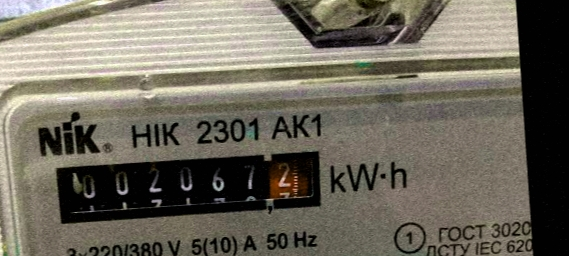0: (77, 170, 97, 200), (174, 161, 194, 190), (111, 165, 130, 195)
2: (273, 157, 293, 187), (144, 163, 163, 193)
6: (207, 162, 227, 192)
7: (240, 160, 258, 191)
screen: (40, 134, 337, 236)
